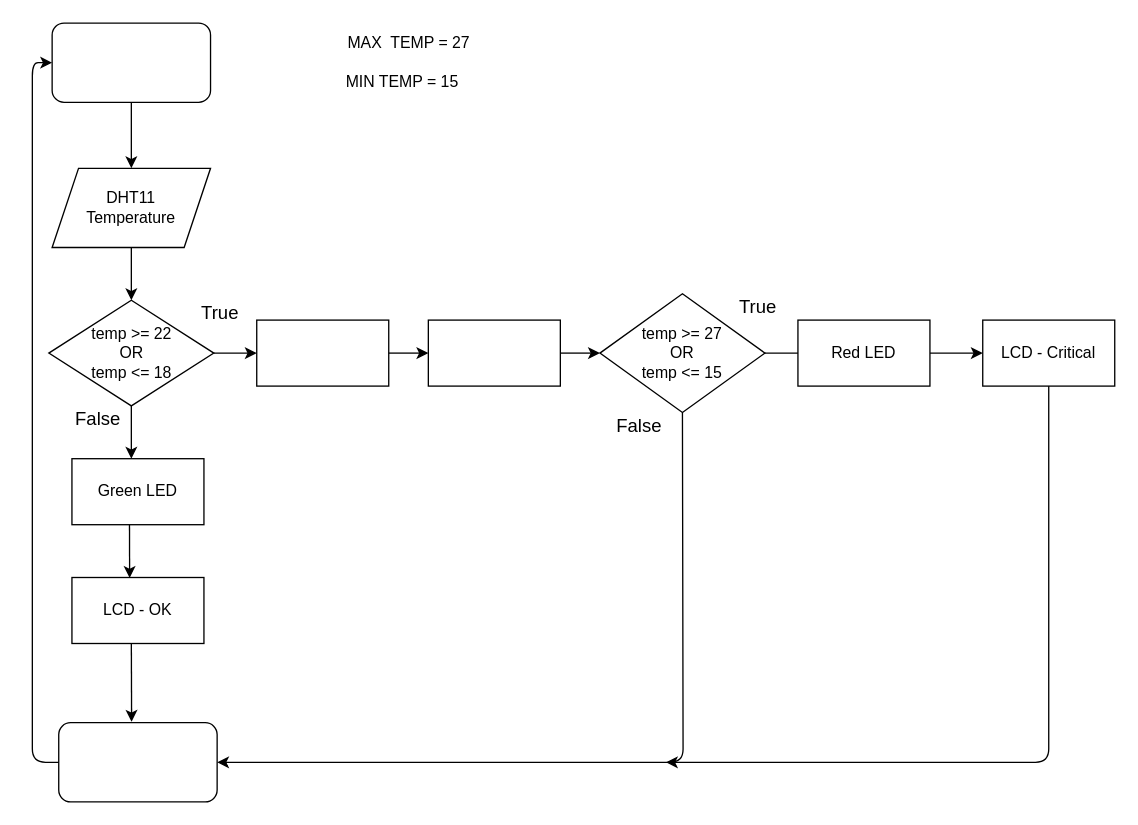
Some shapes in this 1138 by 825 pixel diagram are drawn without their labels. The shapes that lost their labels are listed below. From the top down, each one's centre as x and y in pixels, then its label:
the point at 131,62: START
the point at 322,352: Yellow LED
the point at 493,352: LCD - Warning
the point at 137,761: Loop
